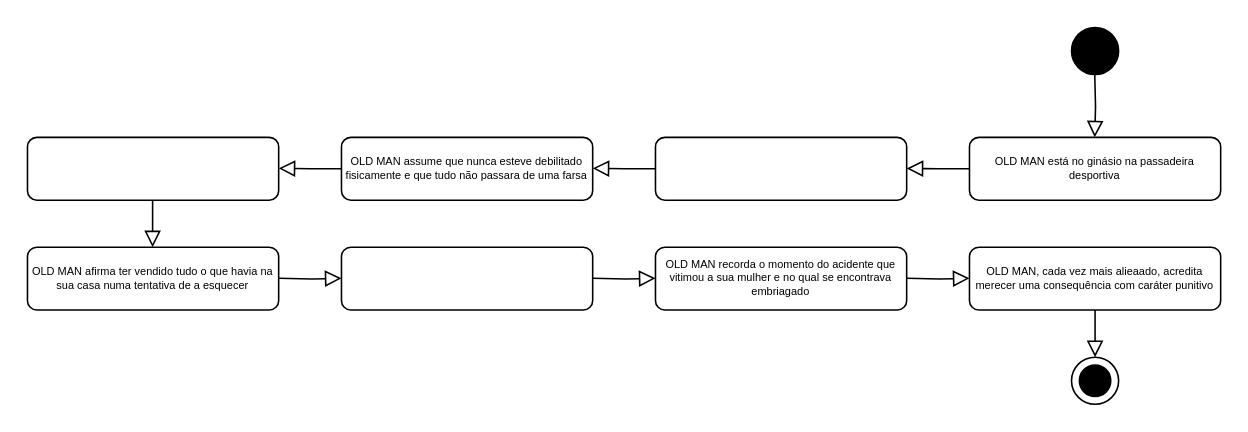
This 1248x432 diagram has some shape labels left out. The centre of each missing label's shape, as x and y in pixels:
"OLD MAN repara que ATHLETIC MAN não se encontra no ginásio" belongs at [780,168].
"OLD MAN revela que não tinha consciência da falta que sentia da esposa" belongs at [152,168].
"OLD MAN sente-se cada vez mais causador da morte da amante" belongs at [466,278].
